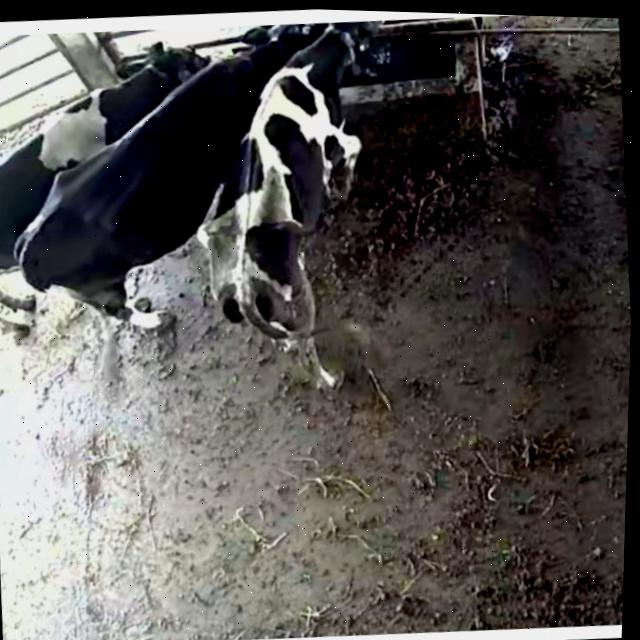drink: (278, 15, 401, 137), (204, 19, 317, 121)
